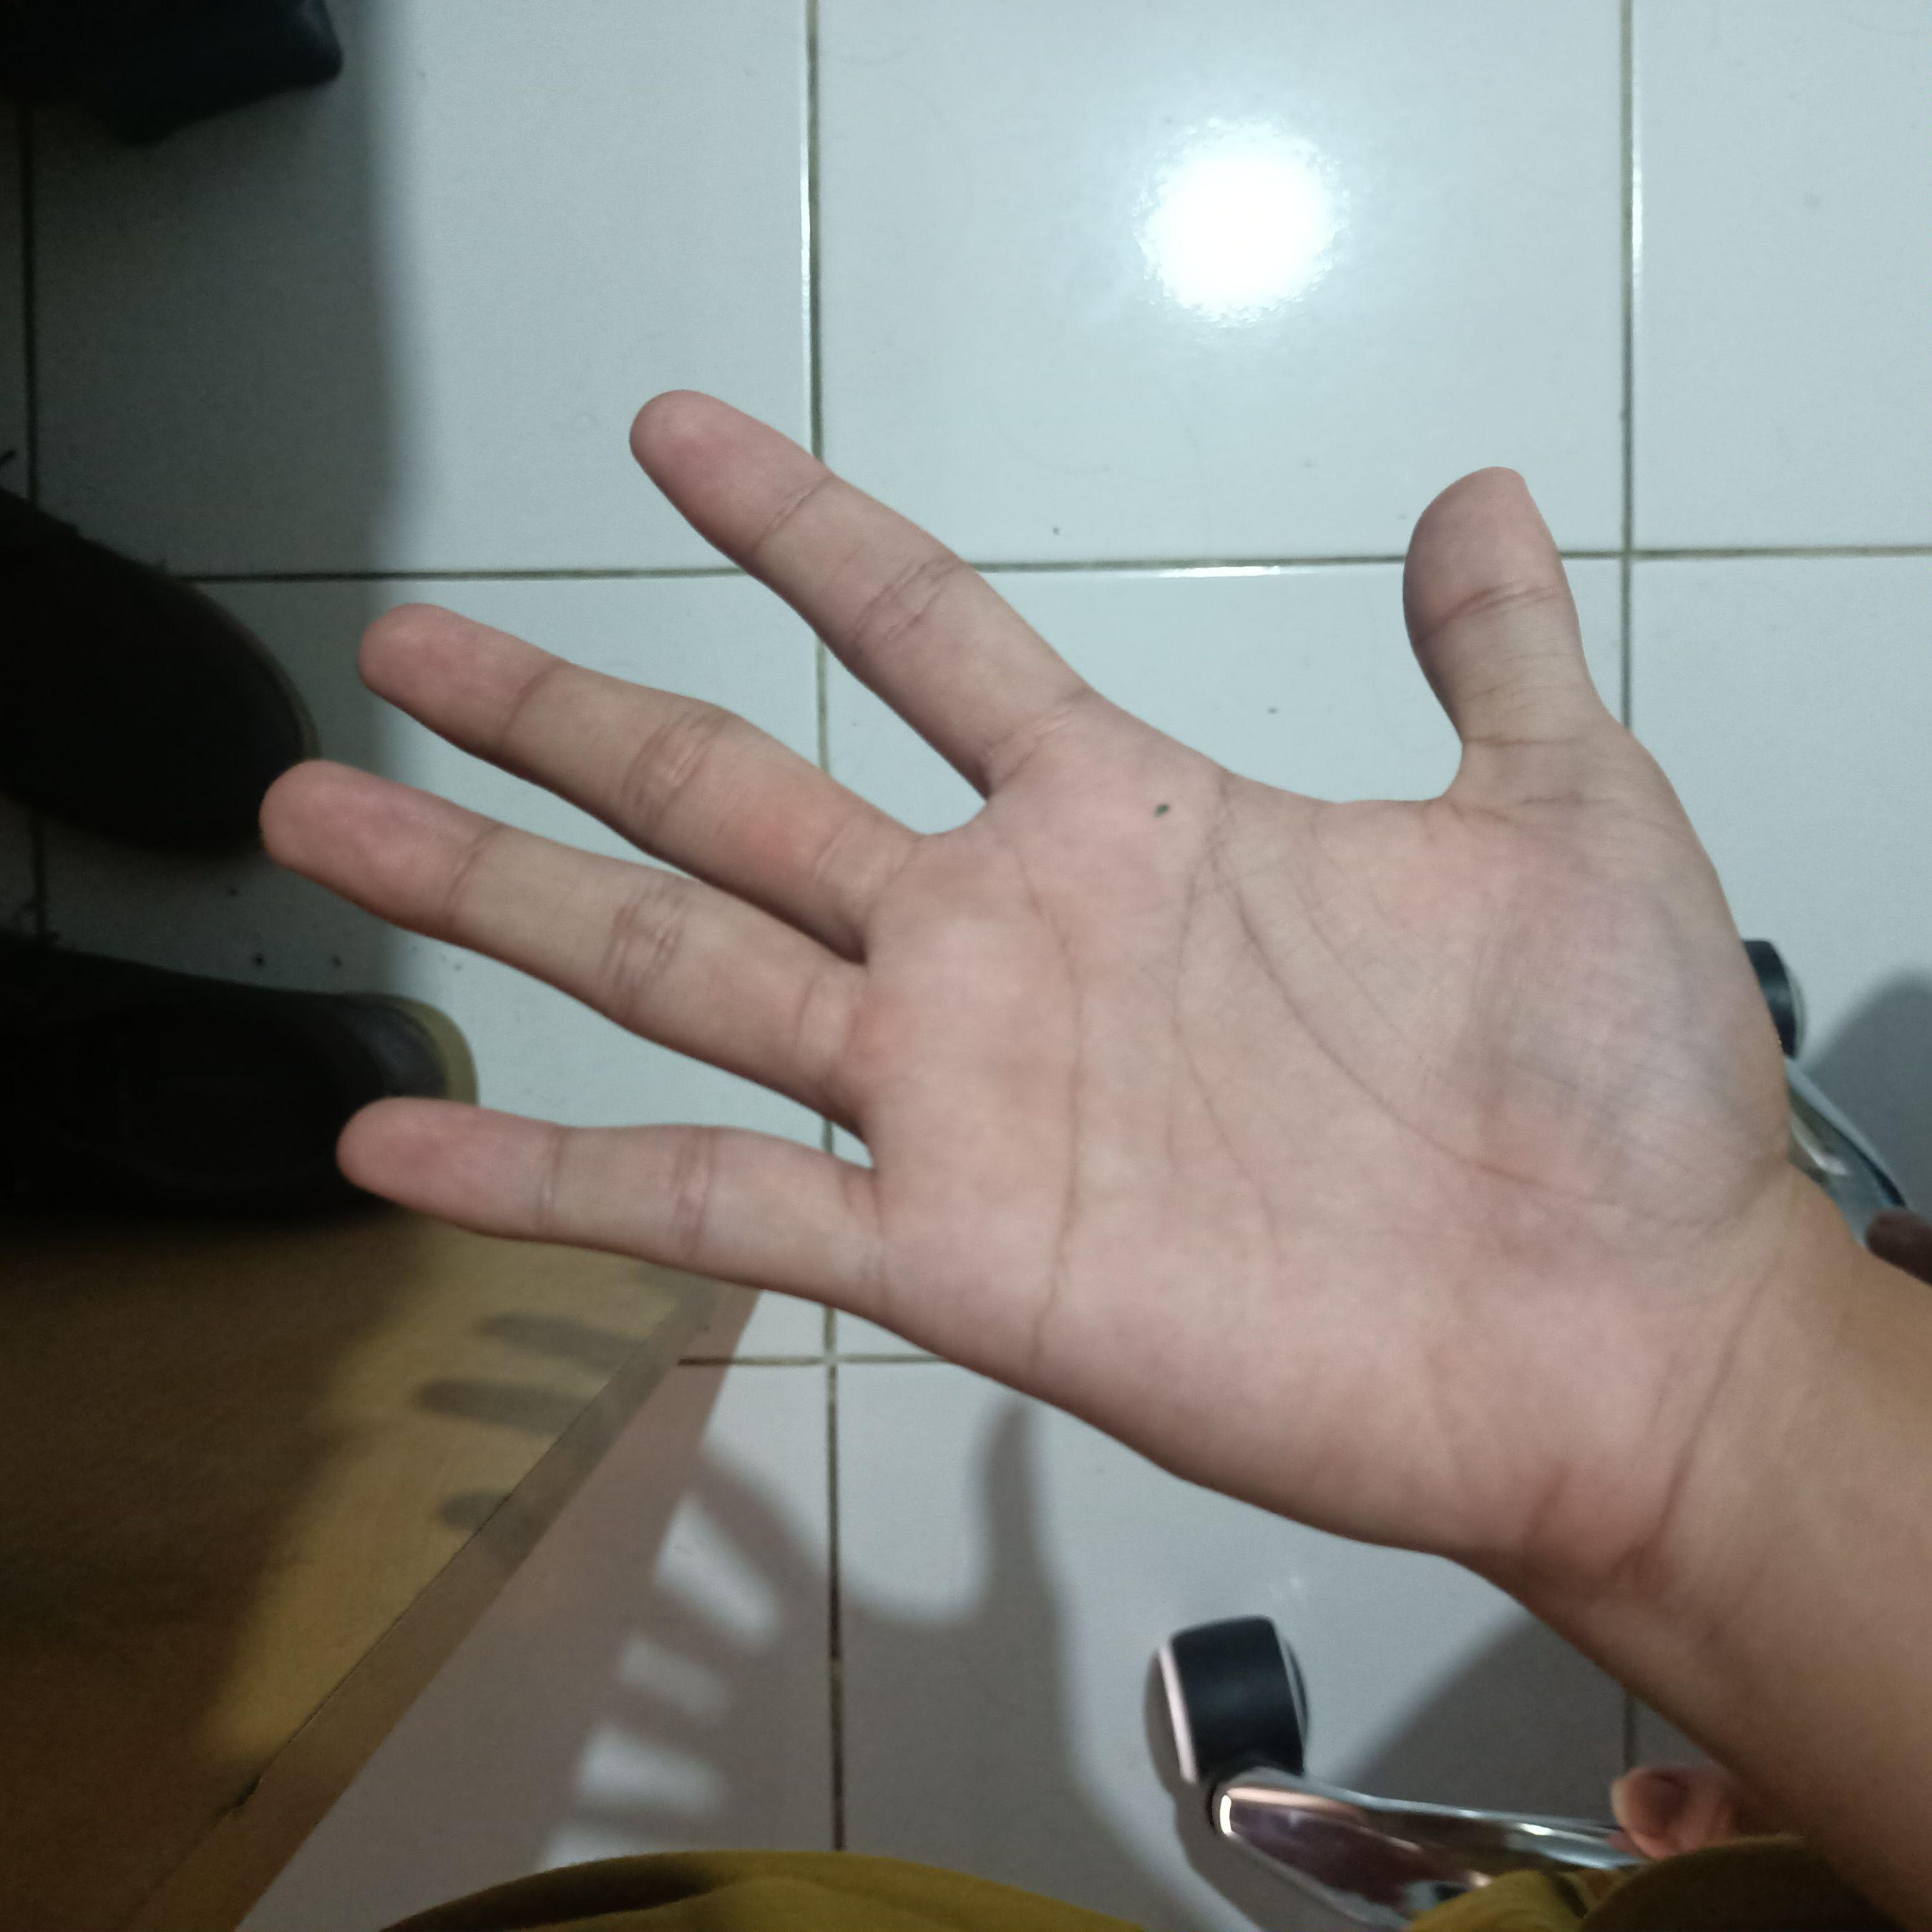paper: (237, 336, 1815, 1605)
